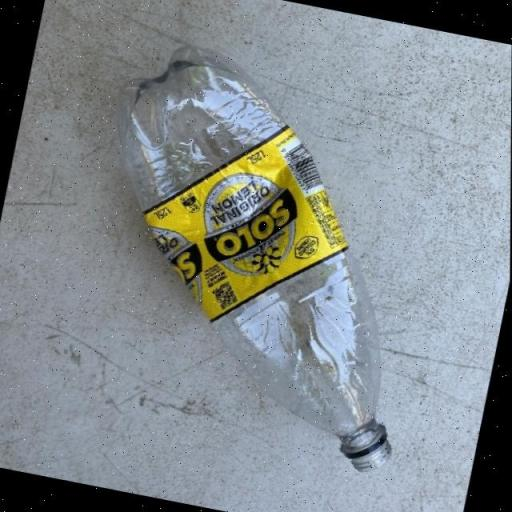plastic: (122, 57, 391, 471)
